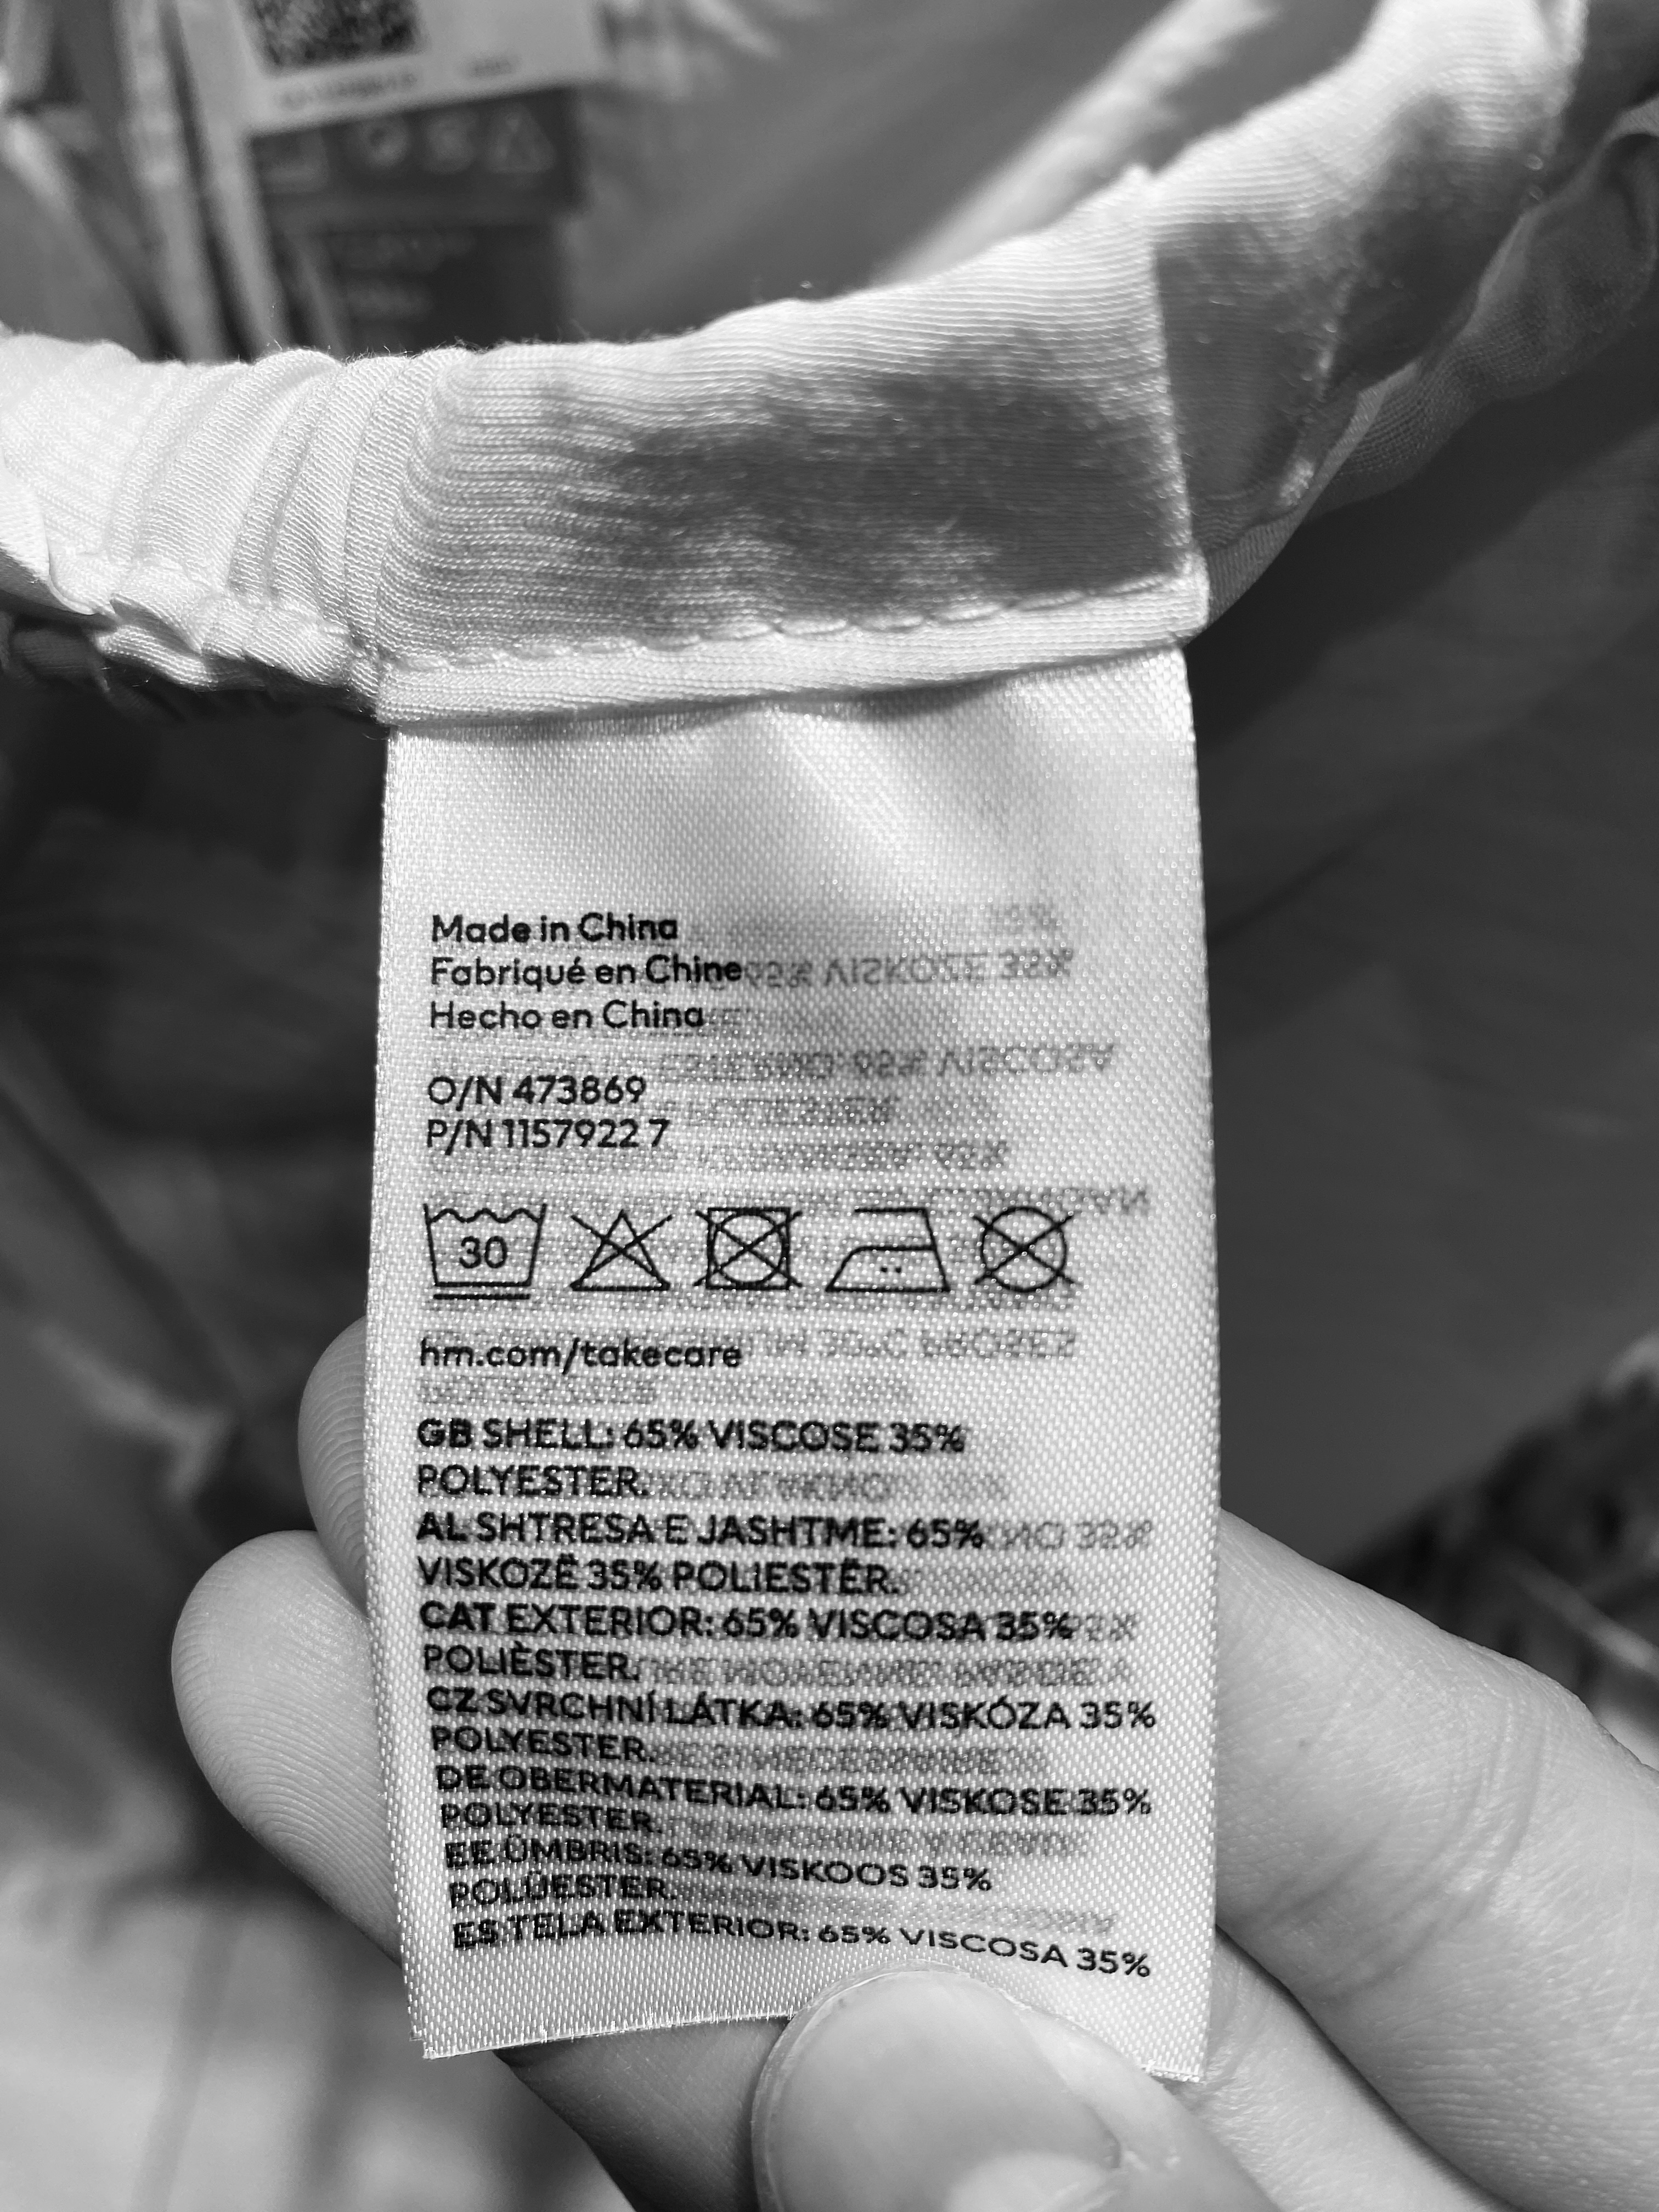icon: (416, 1197, 549, 1306), (824, 1200, 958, 1299), (687, 1200, 812, 1296), (559, 1205, 685, 1299), (964, 1205, 1084, 1296)
